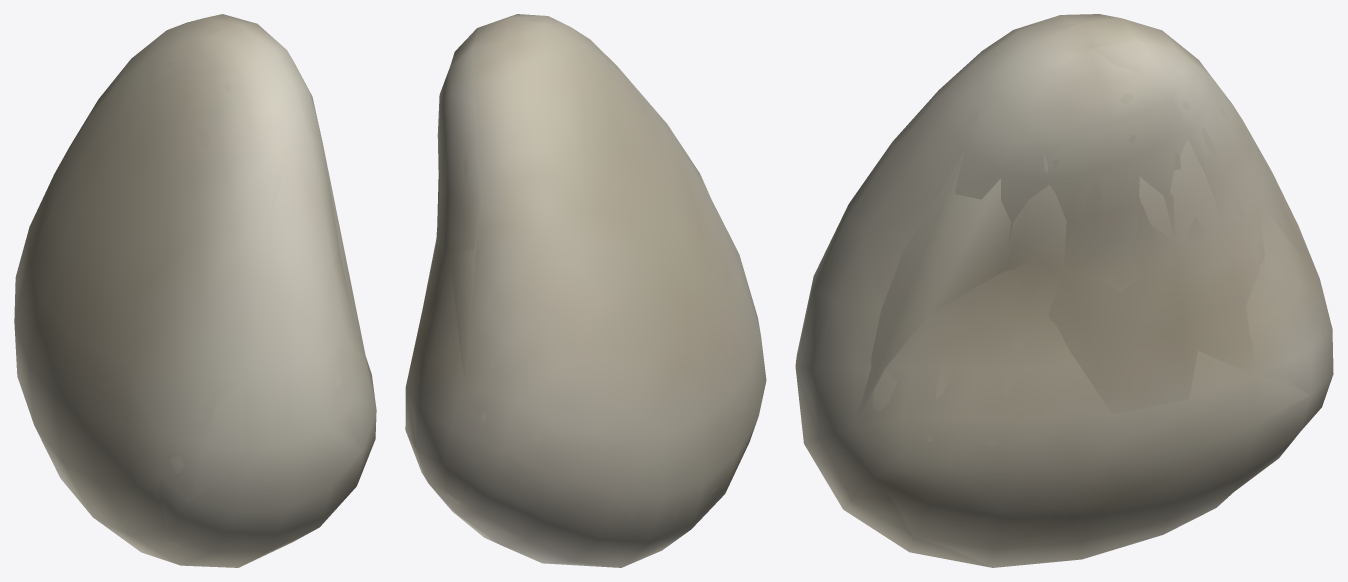
Rendered from L tarsi secundum.fbx.
The picture shows the model from 3 angles, left to right: view 1: azimuth 30°, elevation 25°; view 2: azimuth 150°, elevation 25°; view 3: azimuth 270°, elevation 25°; orthographic projection. The views are drawn at different scales.
Parts seen in each view (by area): view 1: L tarsi secundum, L tarsi secundum low, L tarsi secundum high; view 2: L tarsi secundum, L tarsi secundum low, L tarsi secundum high; view 3: L tarsi secundum, L tarsi secundum low, L tarsi secundum high.
Part boxes in pixels (x1,y1,x2,y2): L tarsi secundum: (14, 14, 376, 567); L tarsi secundum low: (15, 14, 375, 567); L tarsi secundum high: (21, 28, 346, 547); L tarsi secundum: (405, 14, 766, 567); L tarsi secundum low: (405, 14, 764, 566); L tarsi secundum high: (412, 19, 746, 554); L tarsi secundum: (795, 14, 1333, 567); L tarsi secundum low: (795, 20, 1332, 567); L tarsi secundum high: (811, 17, 1315, 540).
Size of the model in its own units: 0.2501 by 0.4718 by 0.3987.
1 material, 1 textured.
